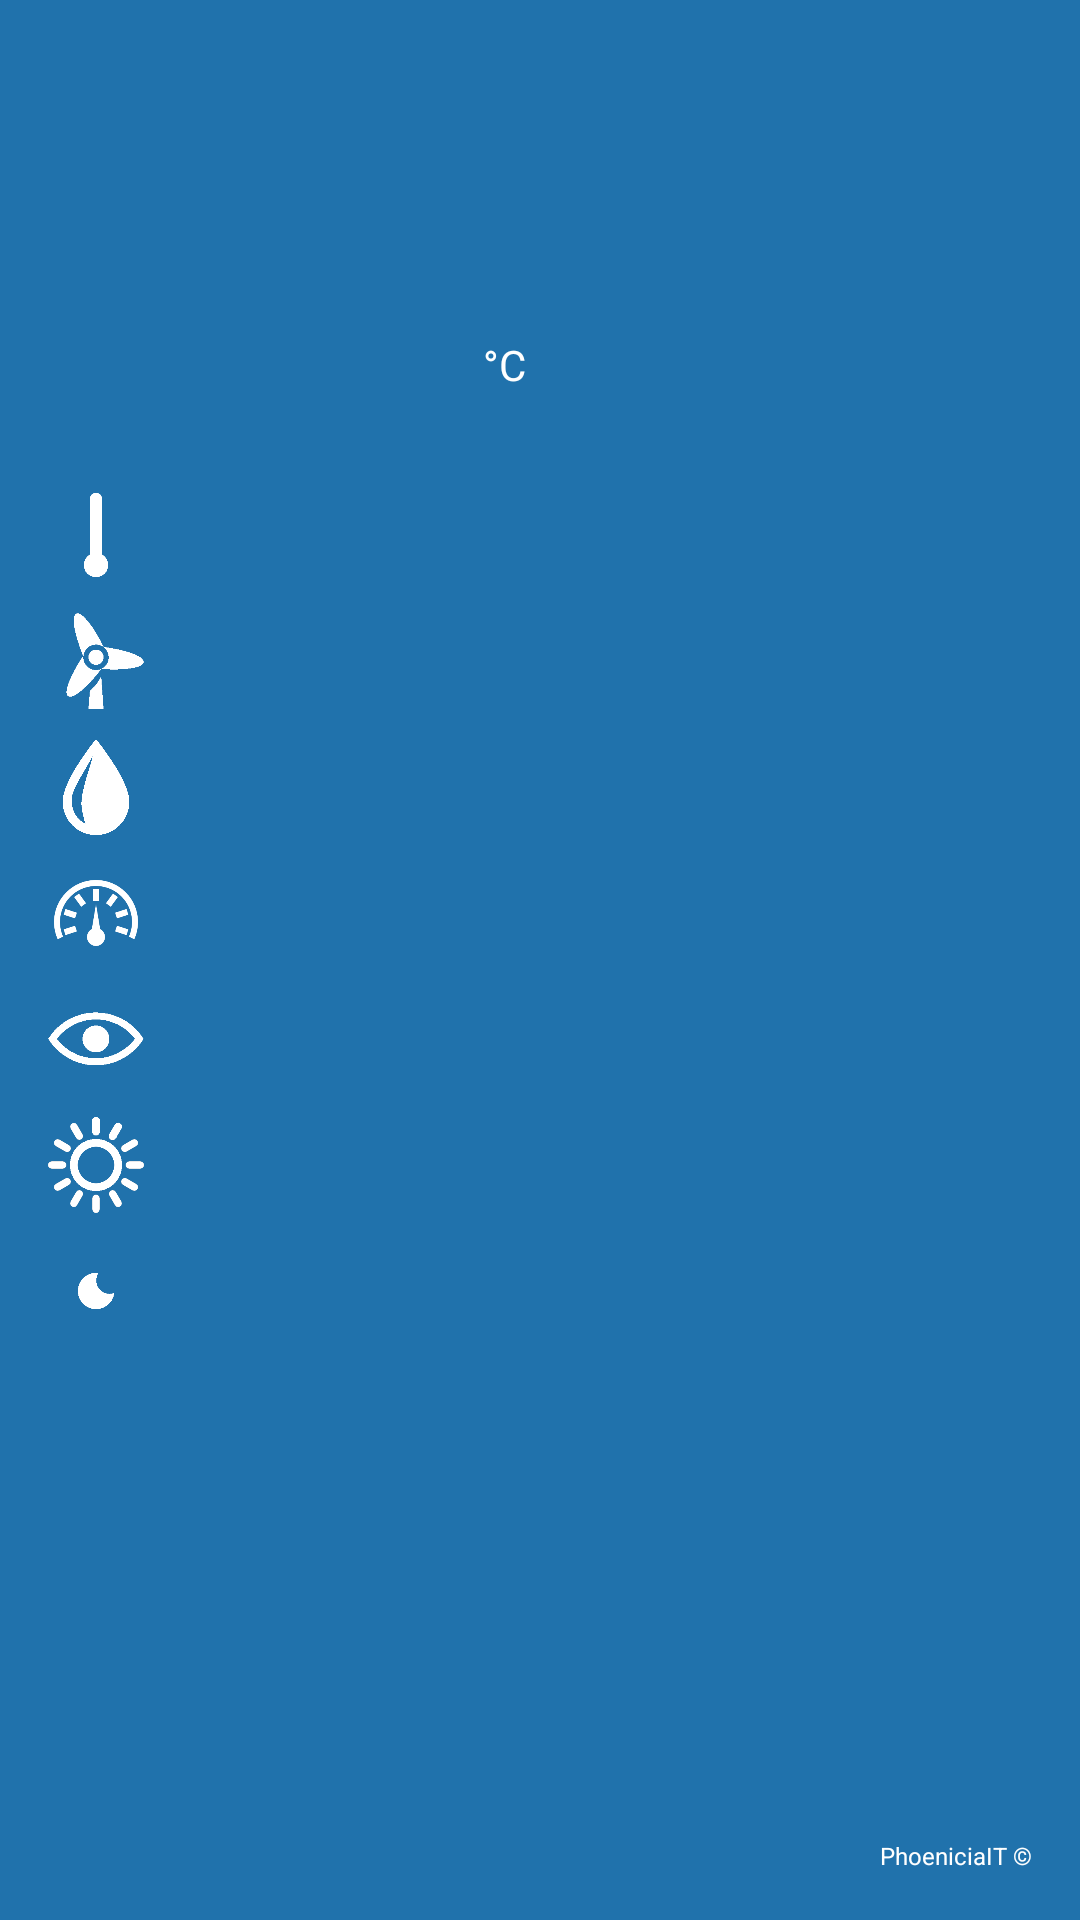

Named icons in this screenshot (1080*1920) and their centers, point (x, y):
eye: point (96, 1038)
humidity: point (96, 787)
moon: point (96, 1291)
pressure: point (96, 913)
sun: point (96, 1165)
temperature: point (96, 535)
wind: point (105, 661)
